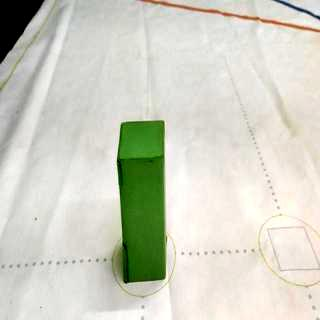greenbox: (119, 120, 166, 284)
